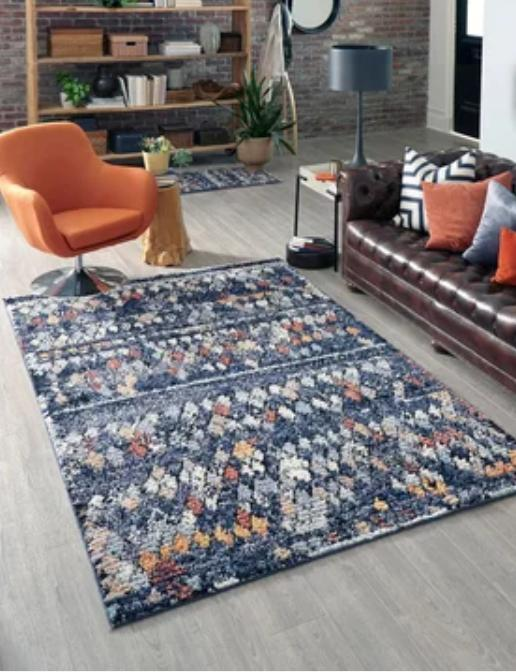carpet: (167, 156, 281, 196)
